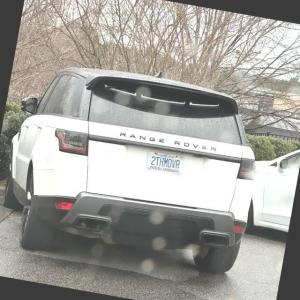Plate: (145, 149, 185, 175)
